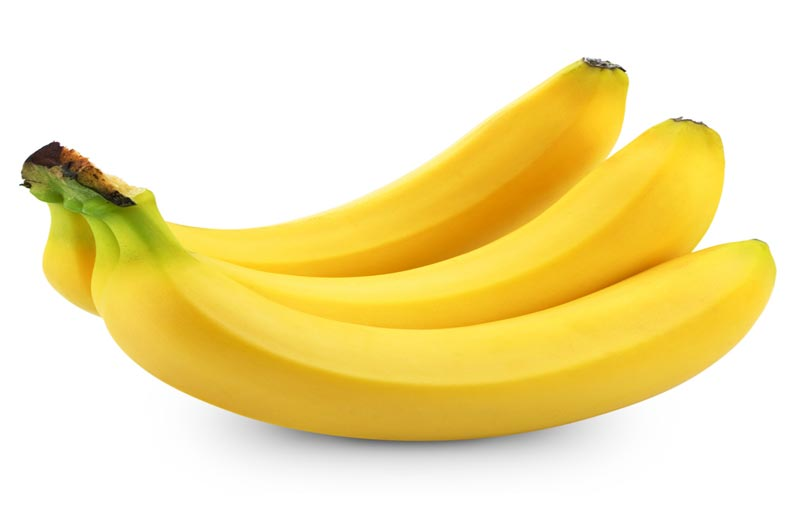looks_good: (10, 42, 800, 514)
